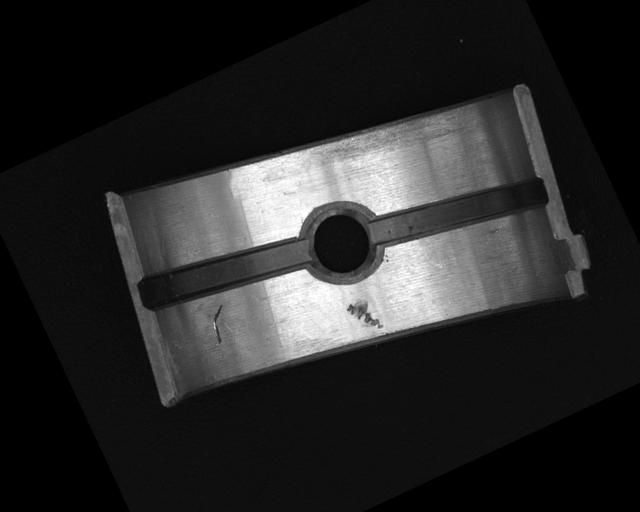bruise: (344, 293, 384, 338)
gap: (366, 148, 551, 275), (135, 209, 315, 333)
hole: (291, 192, 391, 293)
nick: (202, 304, 236, 345)
scratch: (308, 86, 463, 192)
